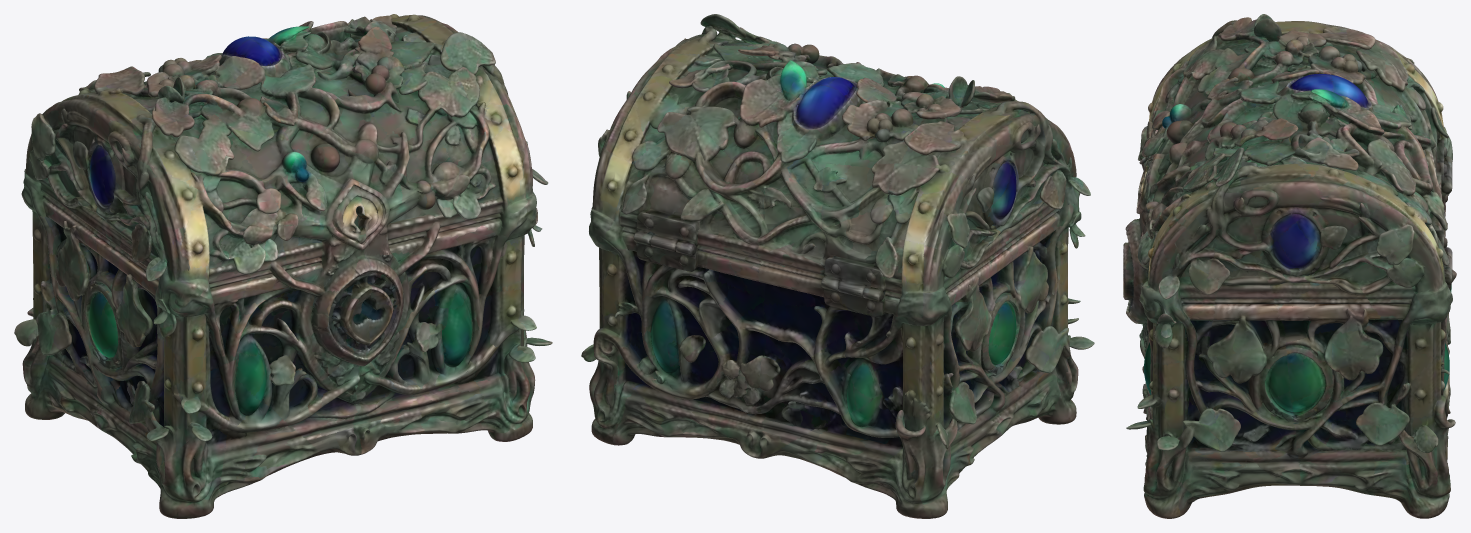
Rendered from chest.before-optimize.glb.
3 views of the same model, side by side, from view 1: azimuth 30°, elevation 25°; view 2: azimuth 150°, elevation 25°; view 3: azimuth 270°, elevation 25° (orthographic). The views are drawn at different scales.
Size of the model in its own units: 1.9 by 1.73 by 1.44.
1 material, 1 textured.
